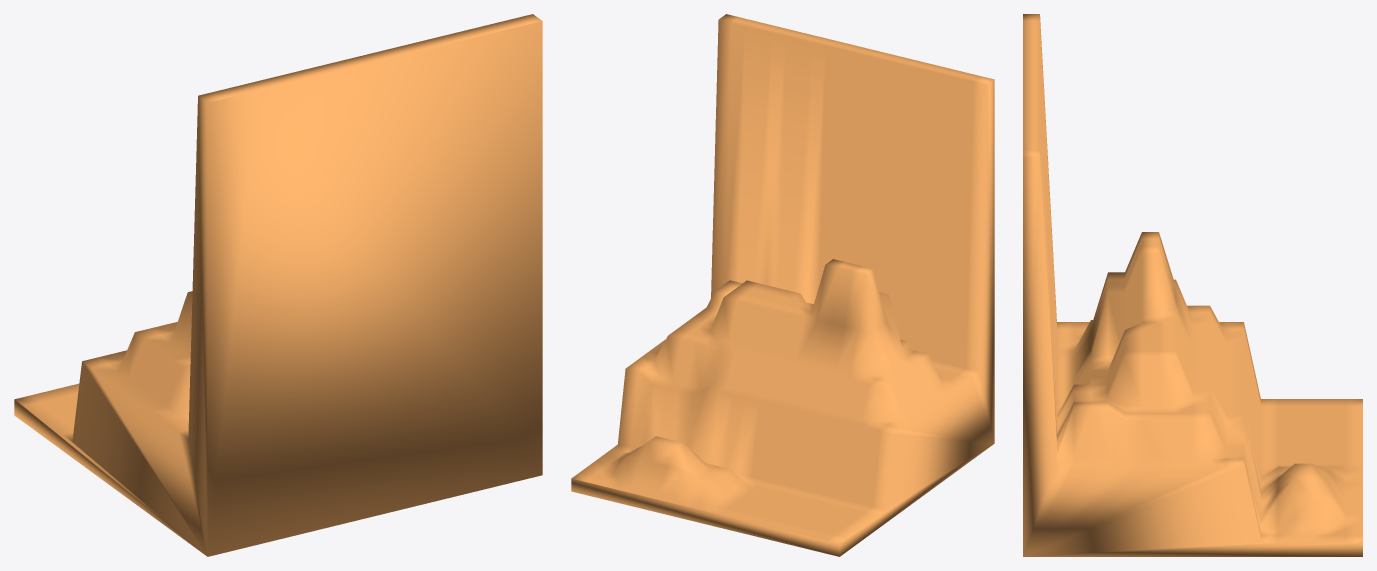
Rendered from left2.fbx.
3 renders of one model, left to right at view 1: azimuth 30°, elevation 25°; view 2: azimuth 150°, elevation 25°; view 3: azimuth 270°, elevation 25°, orthographic. The views are drawn at different scales.
Visible parts, largest first — view 1: Model; view 2: Model; view 3: Model.
Boxes of the visible parts, x1=… form: Model: x1=14, y1=14, x2=542, y2=556; Model: x1=571, y1=14, x2=994, y2=556; Model: x1=1023, y1=14, x2=1362, y2=556.
Size of the model in its own units: 1000 by 1296 by 1000.
